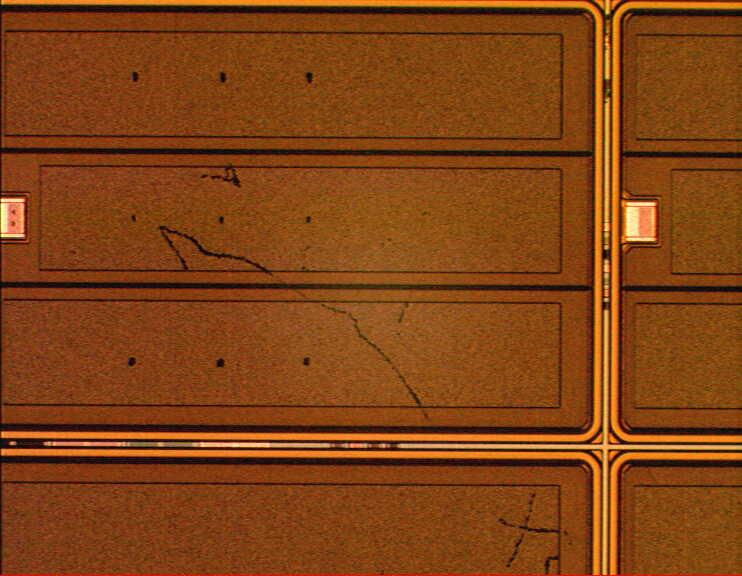SCRATCH: (154, 158, 584, 574)
